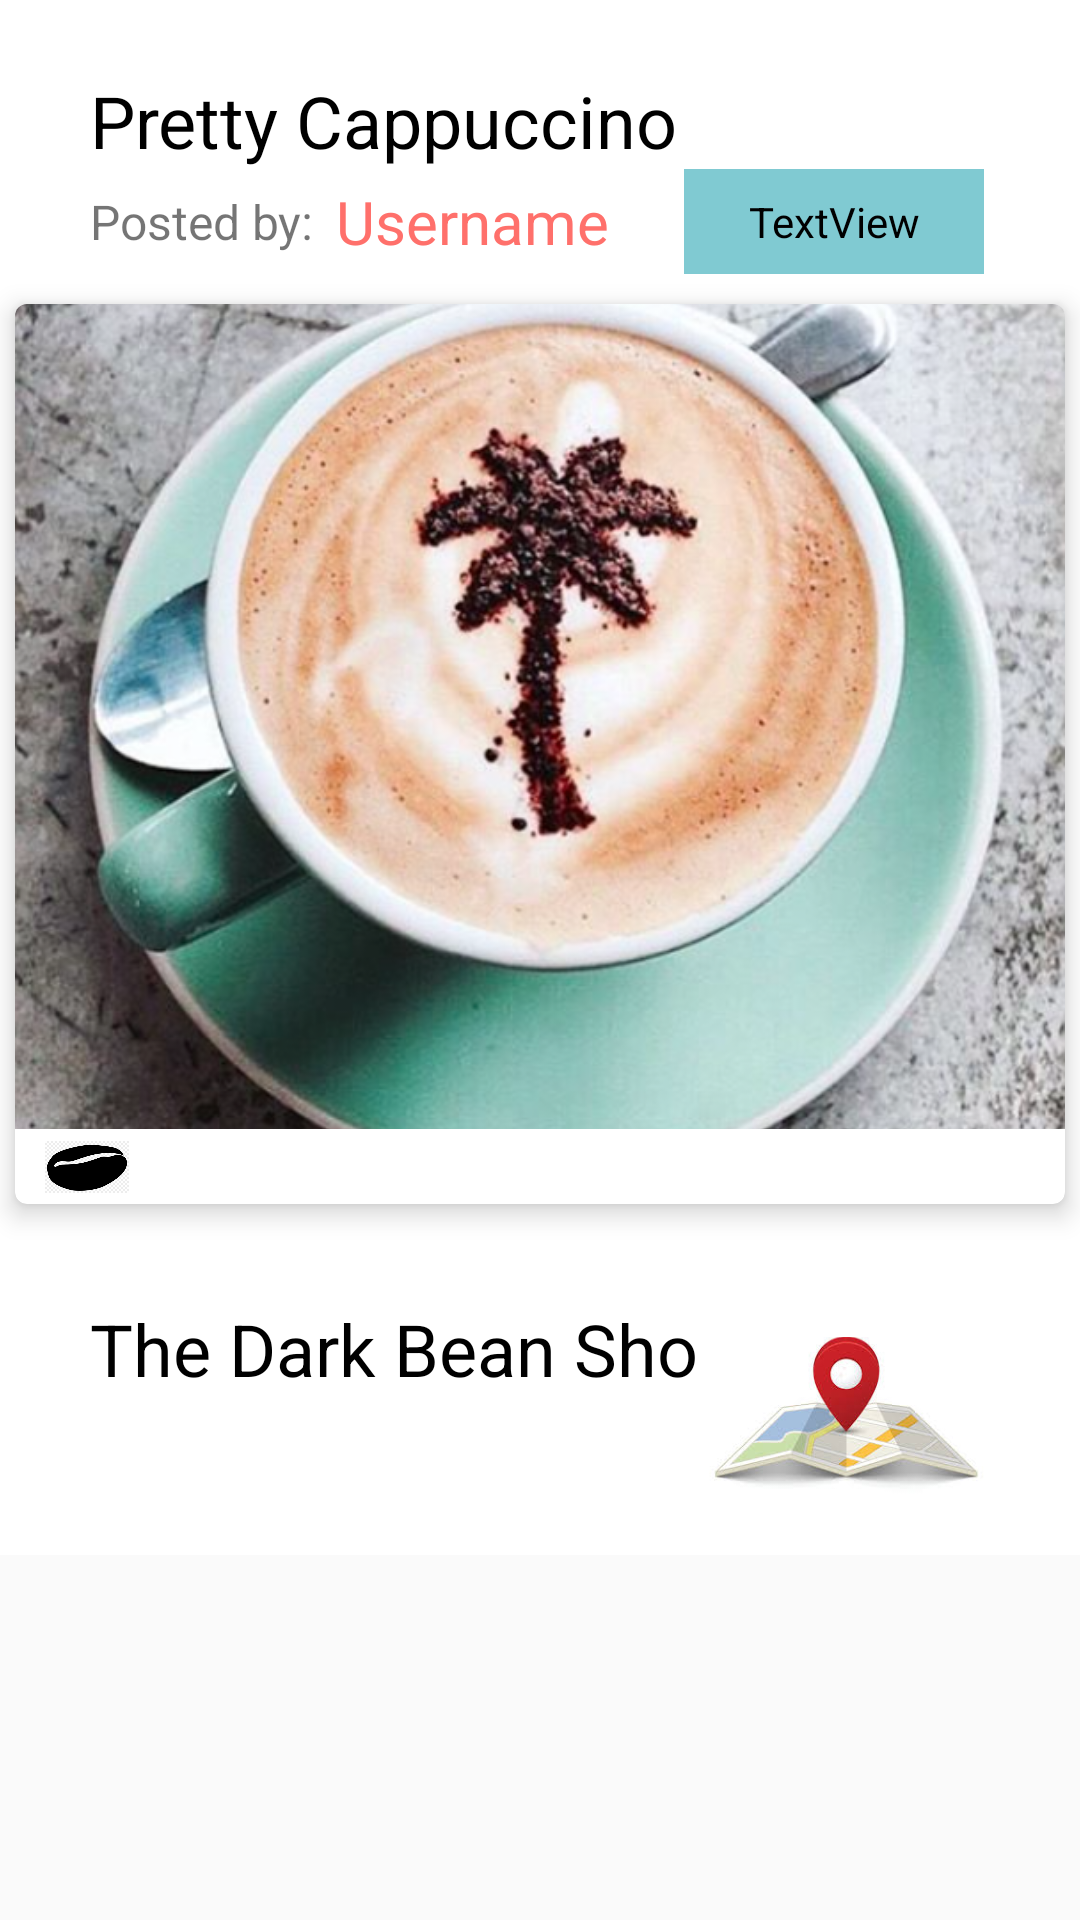

Icon click points for this 1080*1920 phone screenshot, format (x=x, y=y):
directions: (x=846, y=1410)
